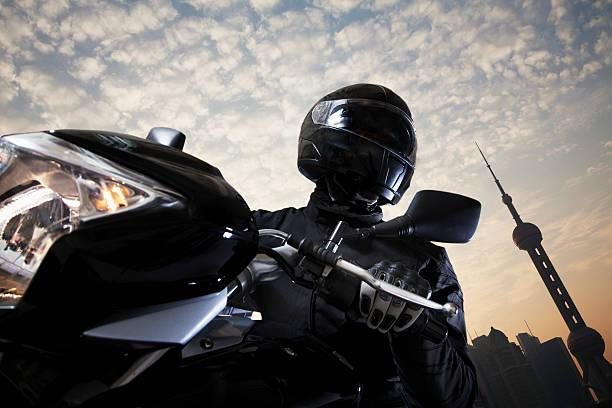helmet: (289, 64, 426, 213)
